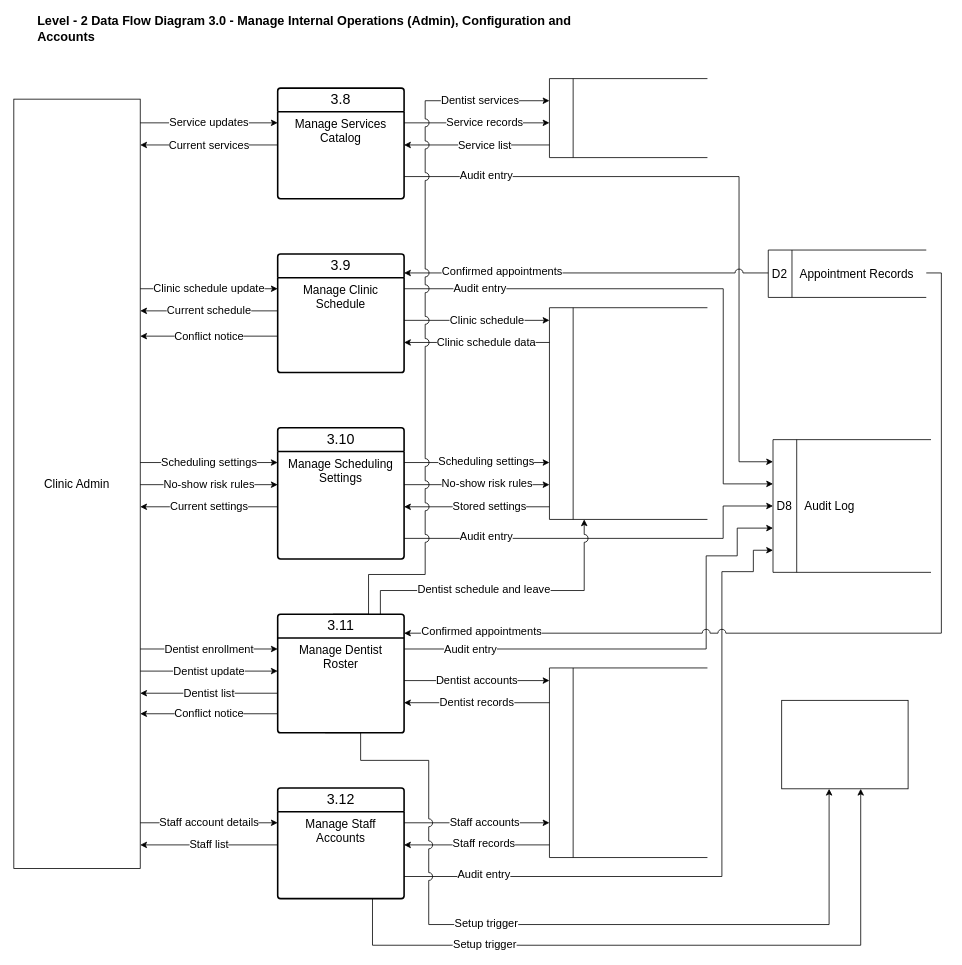
Some shapes in this 962 by 965 pixel diagram are drawn without their labels. The shapes that lost their labels are listed below. From the top down, each one's centre as x and y in pixels, then its label:
[628,118]: D4 Services
[628,413]: D3 Schedules & Settings
[628,762]: D1 User Records
[844,744]: 4.0 Generate Notifications
